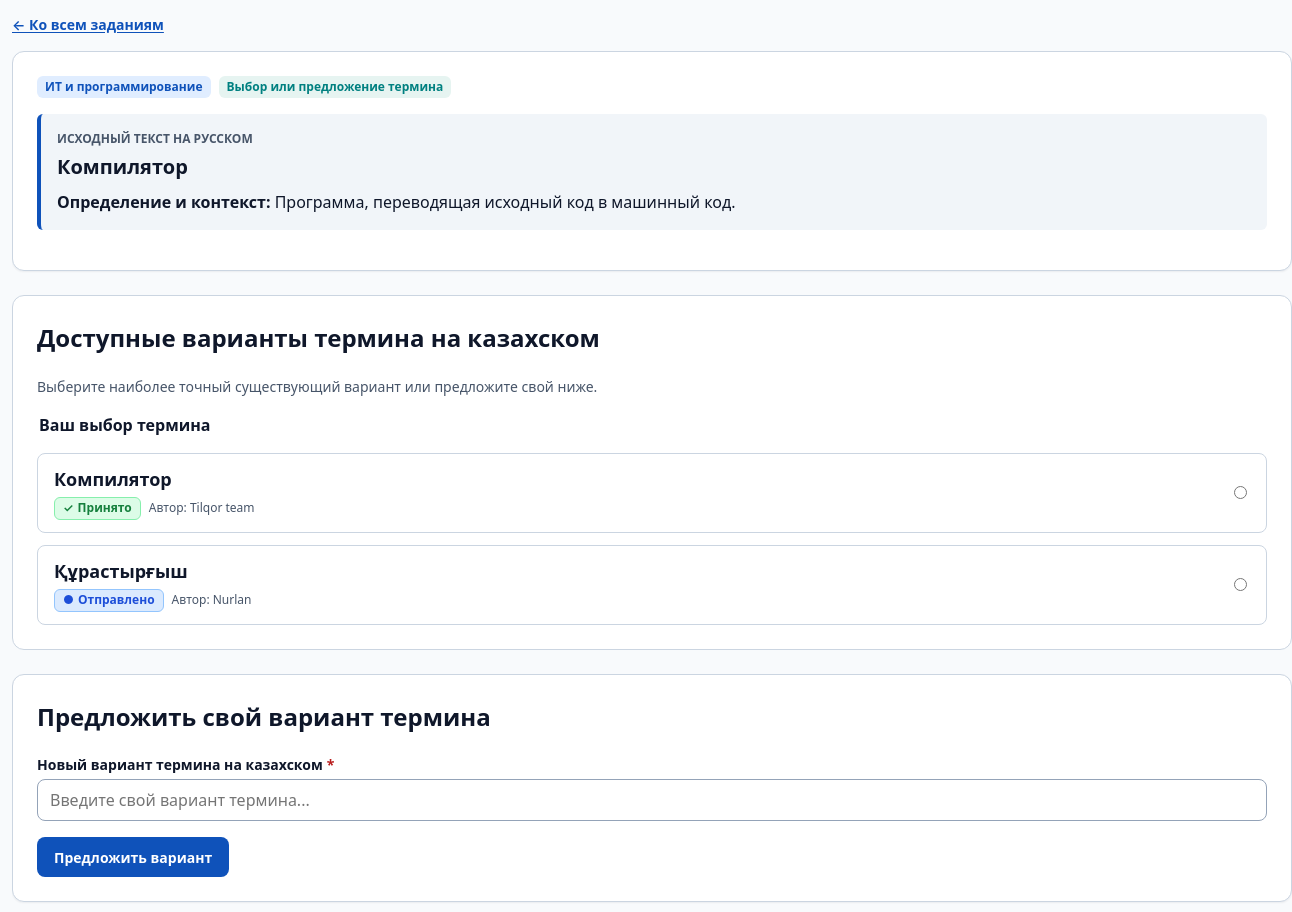
TaskDetailPage (translation and term flows) › renders term variants in API order and allows choosing a preference
The width and height of the screenshot is (1292, 912).
Expected: the text "Құрастырғыш" is shown, x1=54 y1=559 x2=188 y2=583
Expected: the radio button labelled "Компилятор" is shown, x1=1234 y1=486 x2=1247 y2=499
Click the radio button labelled "Құрастырғыш".
click(1240, 584)  # box x1=1234 y1=578 x2=1247 y2=591
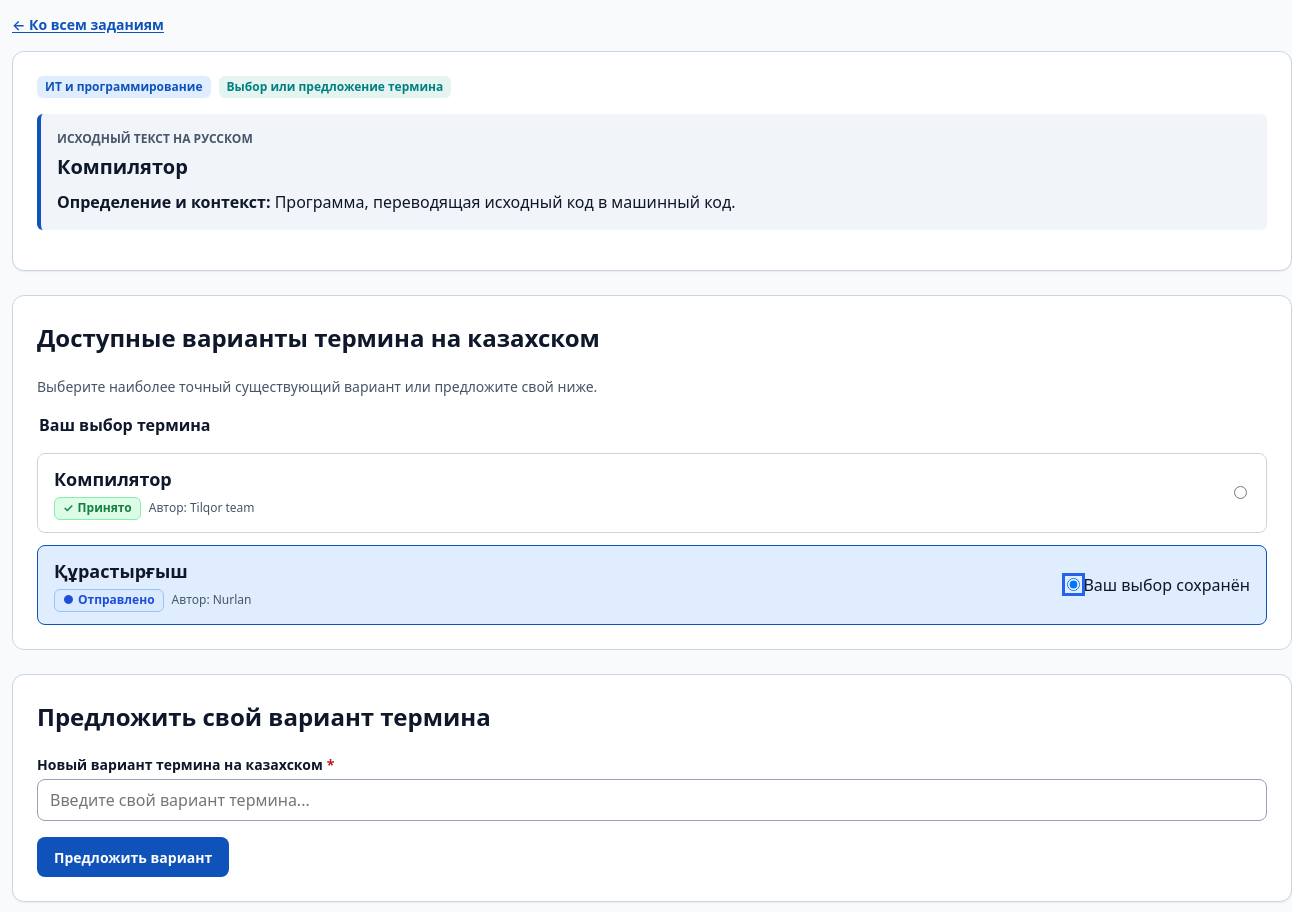
Expected: the text "Ваш выбор сохранён" is shown, x1=1083 y1=574 x2=1250 y2=596
